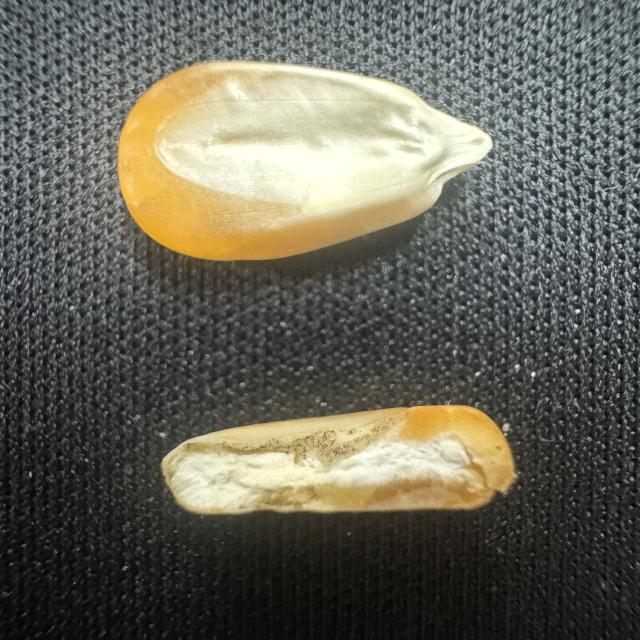Bad-Seed: (144, 402, 533, 516)
Good-Seed: (114, 51, 493, 268)
